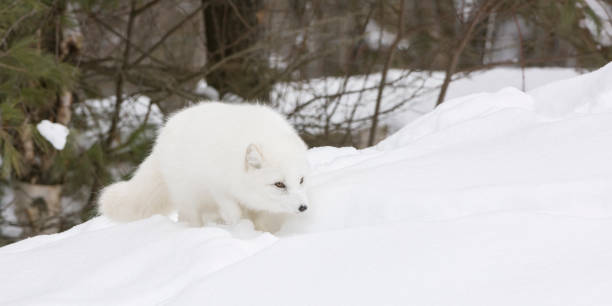arcticfox: (254, 144, 313, 224)
